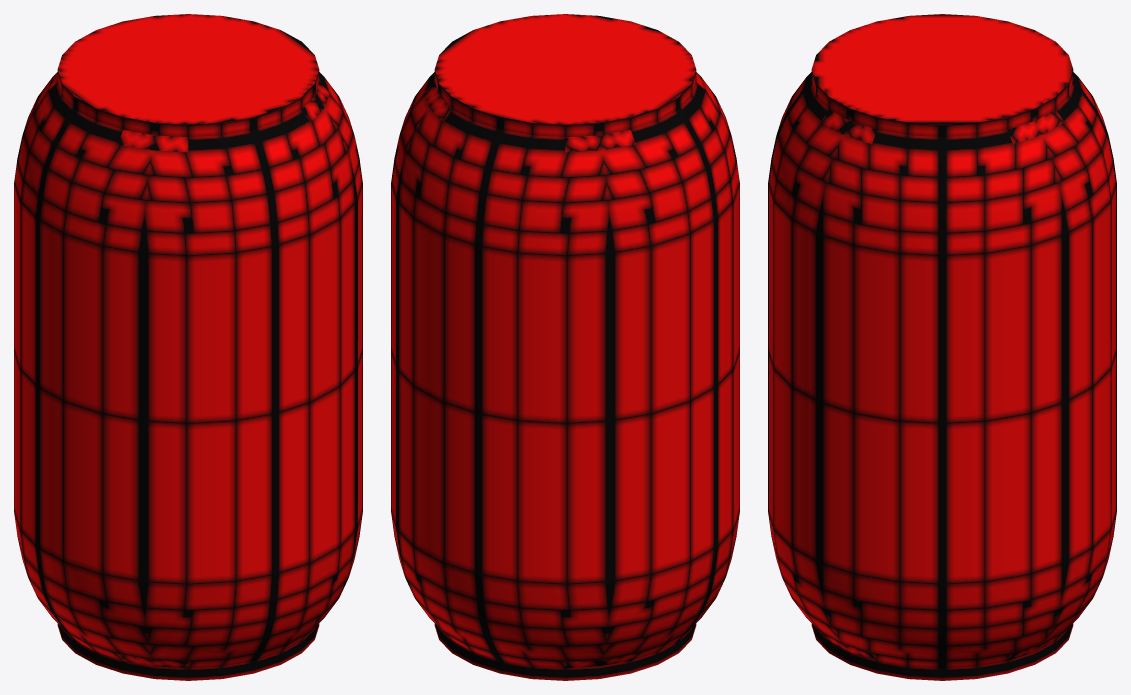
Rendered from Mira_Crew_1_Interior.obj.
3 renders of one model, left to right at view 1: azimuth 30°, elevation 25°; view 2: azimuth 150°, elevation 25°; view 3: azimuth 270°, elevation 25°, orthographic.
Visible parts, largest first — view 1: Mira_Crew_1_Interior; view 2: Mira_Crew_1_Interior; view 3: Mira_Crew_1_Interior.
Part boxes in pixels (x1,y1,x2,y2): Mira_Crew_1_Interior: [14, 14, 362, 680]; Mira_Crew_1_Interior: [391, 14, 739, 680]; Mira_Crew_1_Interior: [768, 14, 1116, 680].
Size of the model in its own units: 1.25 by 2.2 by 1.25.
Materials: 1 (1 with a texture image).
